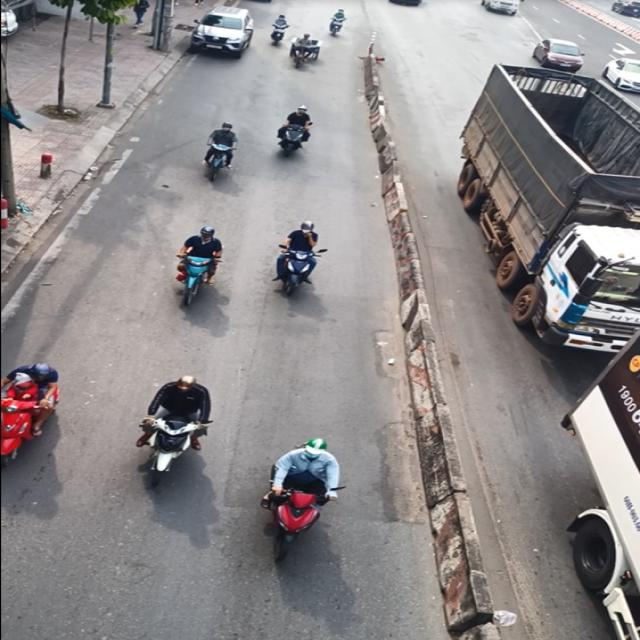car: (528, 36, 597, 75)
motor: (266, 431, 355, 555), (132, 368, 218, 492), (163, 222, 240, 320), (270, 95, 318, 171), (276, 221, 322, 296), (199, 114, 244, 186)
